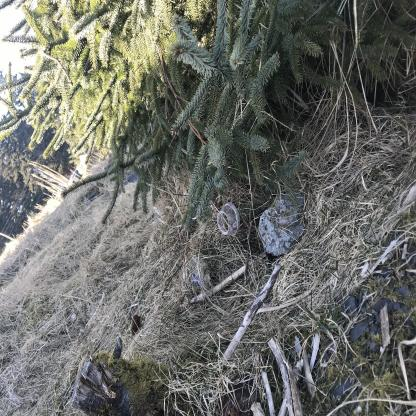trash: (119, 342, 170, 411), (132, 286, 164, 324)
